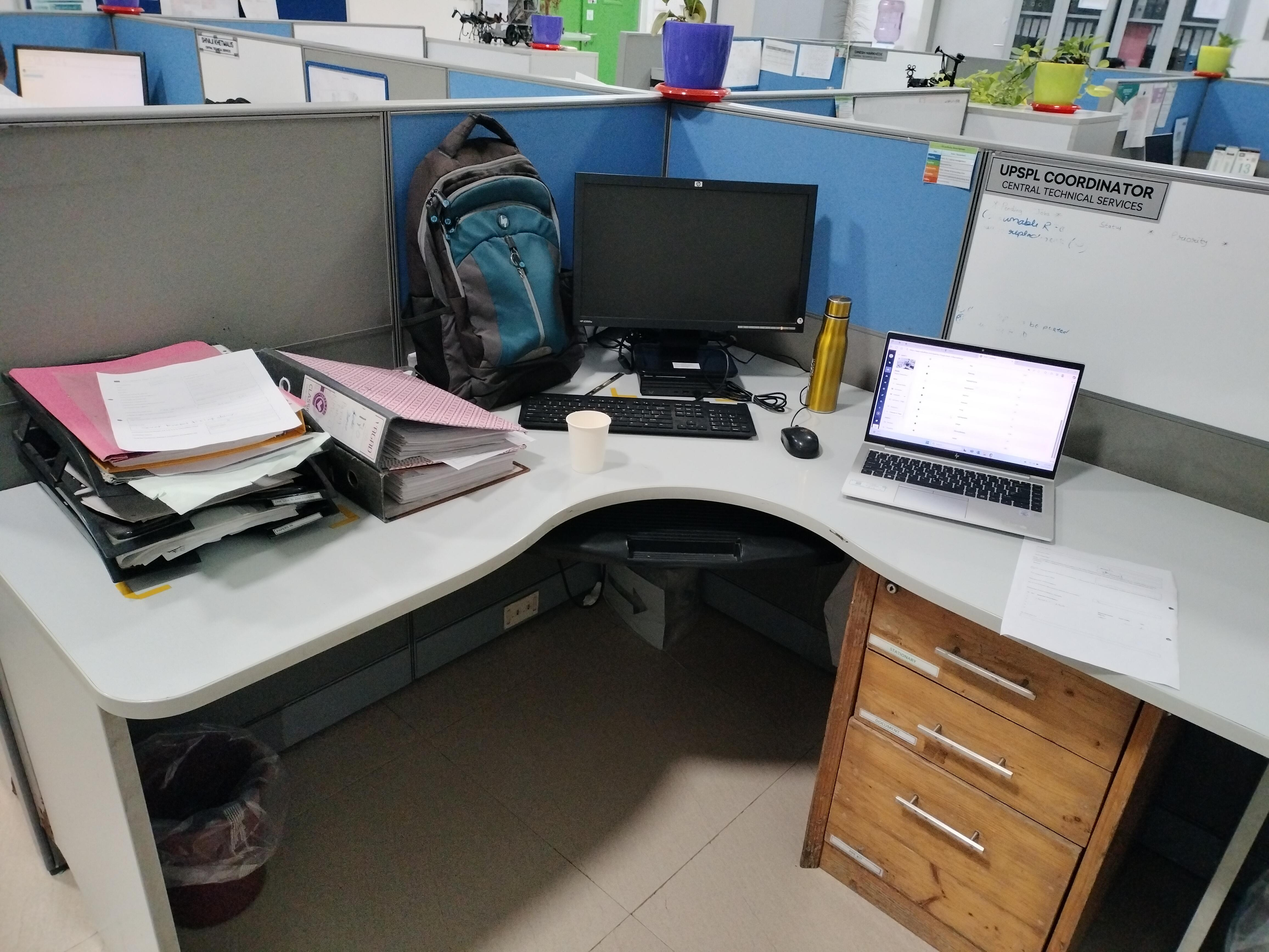StickyNotes: (922, 132, 977, 201)
bag: (388, 105, 592, 409)
bottle: (802, 289, 851, 418)
desktop: (565, 163, 813, 394)
file: (262, 330, 527, 516)
filetray: (0, 336, 347, 569)
keyboard: (513, 390, 762, 440)
laptop: (844, 321, 1081, 553)
mouse: (777, 417, 832, 473)
mug: (558, 402, 616, 479)
nameplate: (988, 144, 1172, 237)
page: (974, 523, 1190, 700)
vase: (653, 10, 747, 126)
